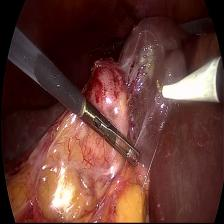Grasper: (79, 90, 142, 170)
Hook: (152, 57, 220, 117)
